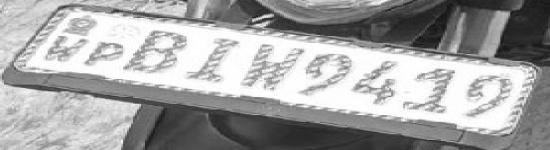1: (399, 65, 457, 117)
4: (354, 54, 400, 106)
9: (457, 70, 516, 120), (301, 52, 353, 99)
B: (125, 28, 188, 75)
I: (186, 31, 241, 85)
P: (88, 38, 125, 68)
W: (241, 41, 307, 92), (42, 34, 90, 63)
